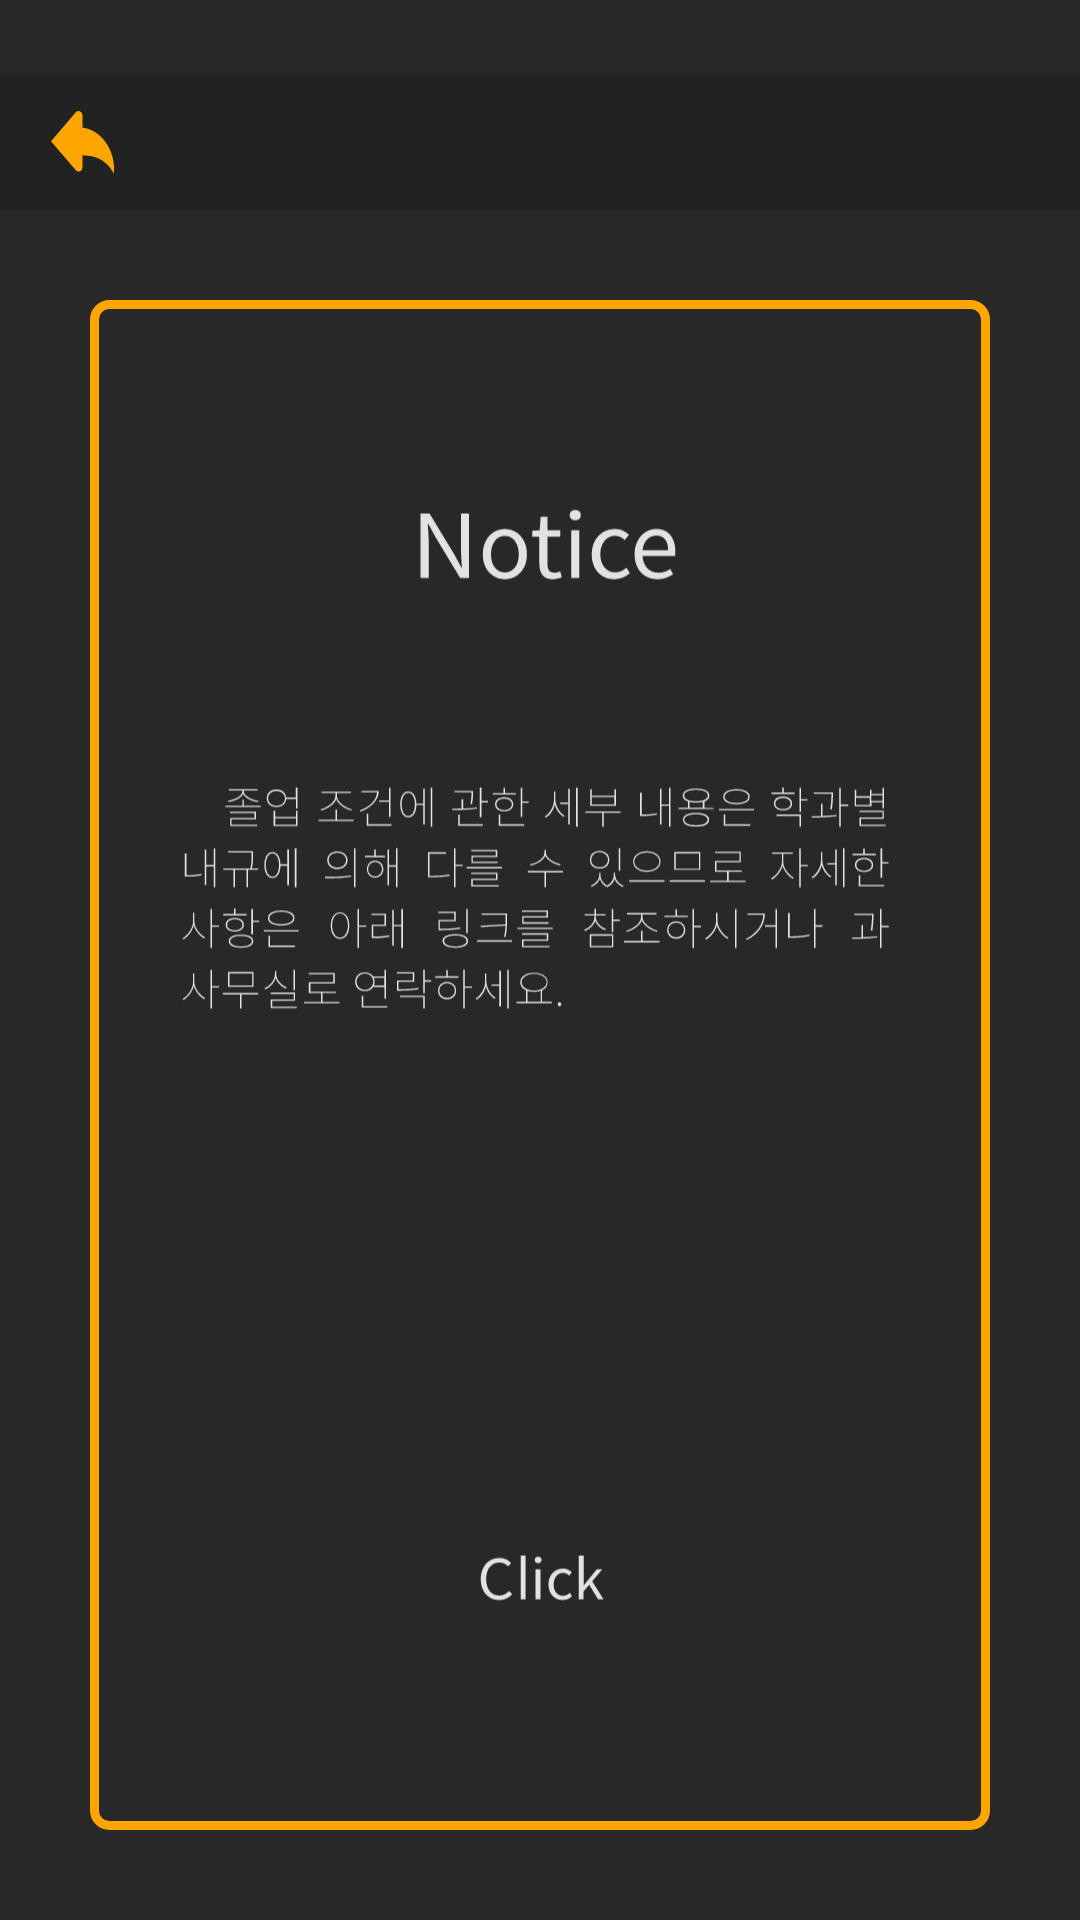

Screen size 1080 x 1920. Icon name, then its center in pixels as [x,y]:
return: [82,142]
